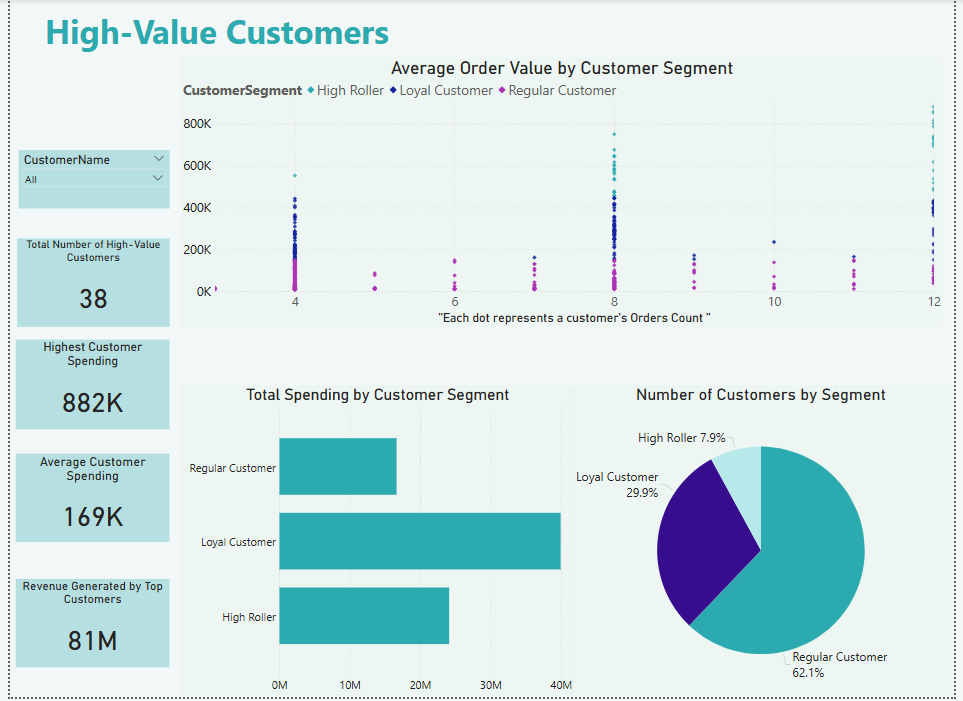

This screenshot's page, from the dashboard's own definition file:
{"tool":"powerbi","page":{"name":"High-Value Customers ","canvas":[2300,1700],"ordinal":2},"visuals":[{"type":"scatterChart","title":"Average Order Value by Customer Segment ","fields":{"Series":["High-Value Customers clean.CustomerSegment"],"Y":["High-Value Customers clean.TotalSpent"],"X":["High-Value Customers clean.OrdersCount"]},"box":[415.1,143.8,1856.5,657],"z":0},{"type":"clusteredBarChart","title":" Total Spending by Customer Segment","fields":{"Category":["High-Value Customers clean.CustomerSegment"],"Y":["Sum(High-Value Customers clean.TotalSpent)"]},"box":[416.7,941.1,958.5,760.5],"z":2000},{"type":"card","title":" Total Number of High-Value Customers","fields":{"Values":["CountNonNull(High-Value Customers clean.CustomerID)"]},"box":[17.4,583.4,371.6,215.3],"z":3000},{"type":"card","title":"Revenue Generated by Top Customers","fields":{"Values":["Sum(High-Value Customers clean.TotalSpent)"]},"box":[13.9,1413.4,375.1,215.3],"z":4000},{"type":"card","title":" Average Customer Spending","fields":{"Values":["Avg(High-Value Customers clean.TotalSpent)"]},"box":[13.9,1107.8,375.1,215.3],"z":5000},{"type":"textbox","box":[78.4,16.3,921.7,127.5],"z":6000},{"type":"card","title":"Highest Customer Spending","fields":{"Values":["Max(High-Value Customers clean.TotalSpent)"]},"box":[13.9,830,375.1,218.8],"z":7000},{"type":"slicer","fields":{"Values":["High-Value Customers clean.CustomerName"]},"box":[20.8,368.1,368.1,142.4],"z":8000},{"type":"pieChart","title":"Number of Customers by Segment","fields":{"Category":["High-Value Customers clean.CustomerSegment"],"Y":["CountNonNull(High-Value Customers clean.CustomerID)"]},"box":[1361.3,941.1,937.7,760.5],"z":8001}]}

Visuals, with their boxes in screenshot pixels (x1, y1, x2, y2), scaled from the page's 2300x1700 canvas onto the 963x701 screenshot:
"Average Order Value by Customer Segment " scatterChart: left=174, top=59, right=951, bottom=330
" Total Spending by Customer Segment" clusteredBarChart: left=174, top=388, right=576, bottom=700
" Total Number of High-Value Customers" card: left=7, top=241, right=163, bottom=329
"Revenue Generated by Top Customers" card: left=6, top=583, right=163, bottom=672
" Average Customer Spending" card: left=6, top=457, right=163, bottom=546
textbox: left=33, top=7, right=419, bottom=59
"Highest Customer Spending" card: left=6, top=342, right=163, bottom=432
slicer - High-Value Customers clean.CustomerName: left=9, top=152, right=163, bottom=211
"Number of Customers by Segment" pieChart: left=570, top=388, right=962, bottom=700
